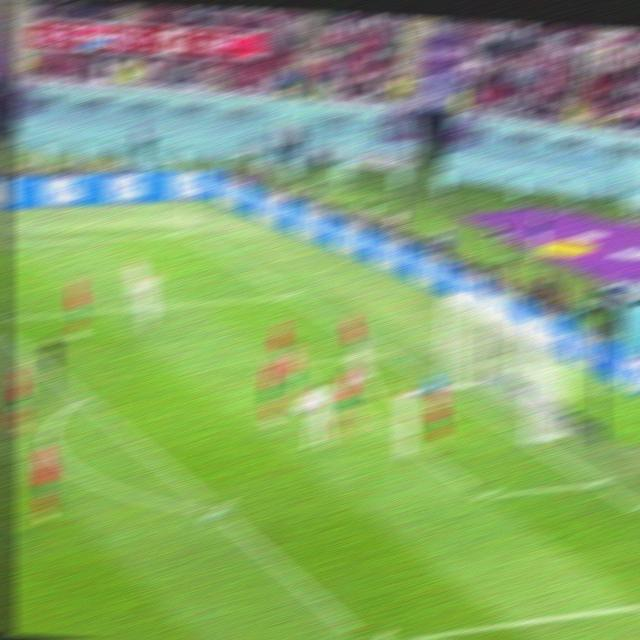bigarea_bottom_inner: (347, 619, 392, 639)
bigarea_top_outter: (276, 284, 301, 304)
bottom_arc_area_intersection: (200, 494, 233, 527)
corner: (170, 226, 198, 241)
smallarea_bottom_inner: (466, 478, 501, 513)
smallarea_bottom_outter: (581, 467, 612, 494)
smallarea_top_outter: (374, 343, 399, 364)
top_arc_area_intersection: (69, 386, 94, 407)
